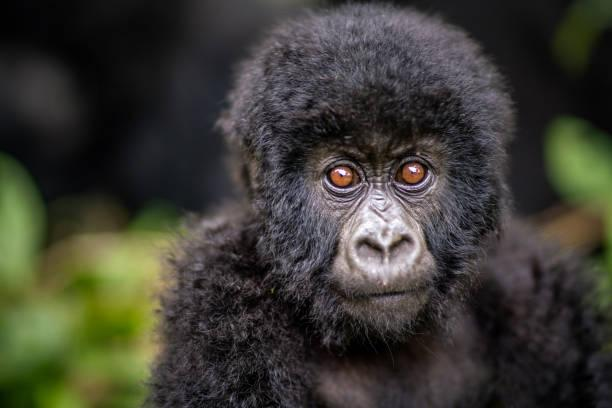goriile_montagne: (143, 11, 612, 408)
